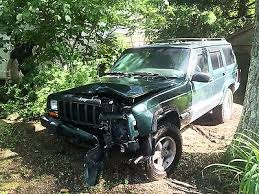Smashed: (84, 88, 166, 176)
